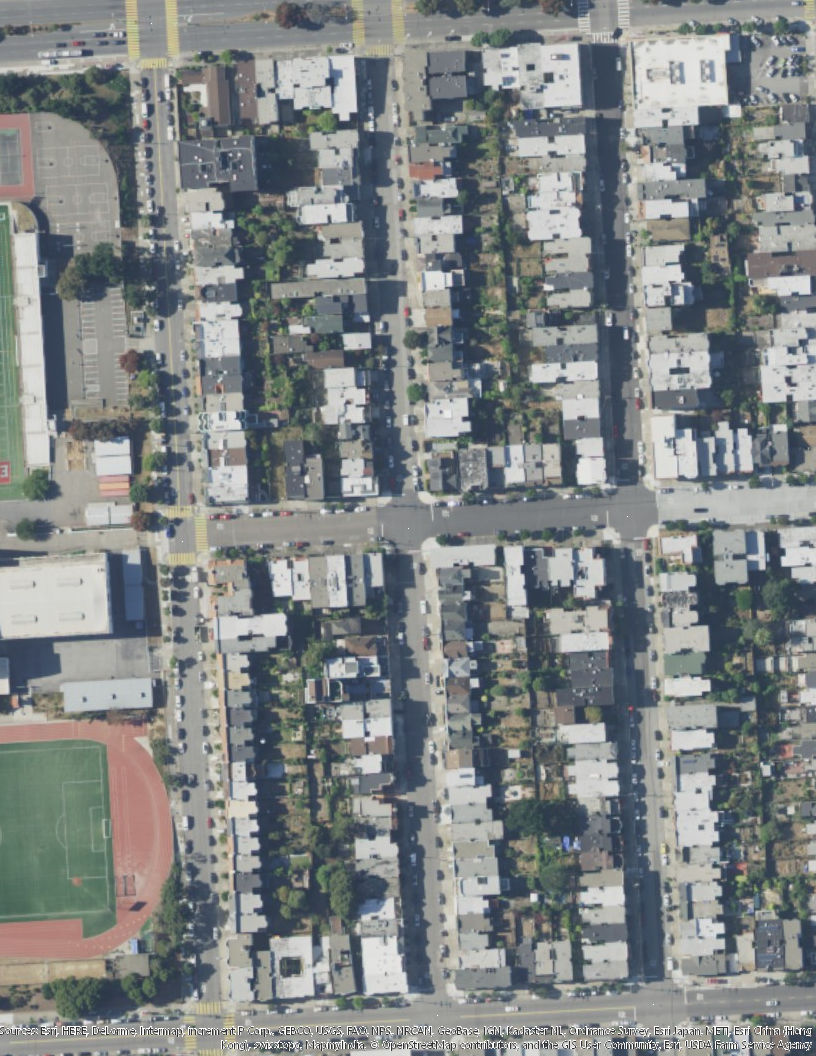zebracross: (123, 1, 140, 60), (164, 1, 181, 57), (389, 1, 405, 44), (352, 1, 366, 46), (193, 516, 208, 553), (615, 1, 631, 32), (182, 1015, 196, 1049), (164, 505, 194, 520), (366, 43, 394, 59), (222, 1014, 237, 1043), (578, 1, 590, 34), (195, 1002, 223, 1016), (591, 31, 621, 44), (168, 552, 197, 565), (139, 58, 168, 70), (803, 1, 815, 17), (198, 1048, 222, 1056)
